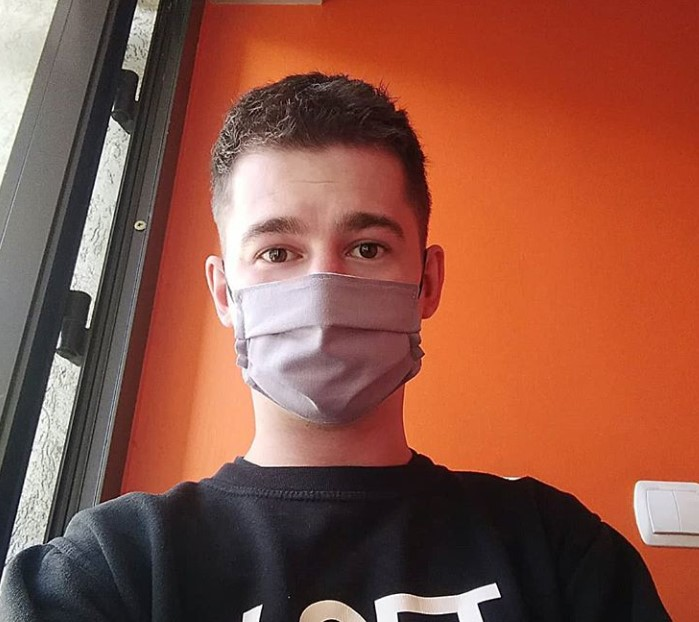face_with_mask: (204, 90, 447, 430)
